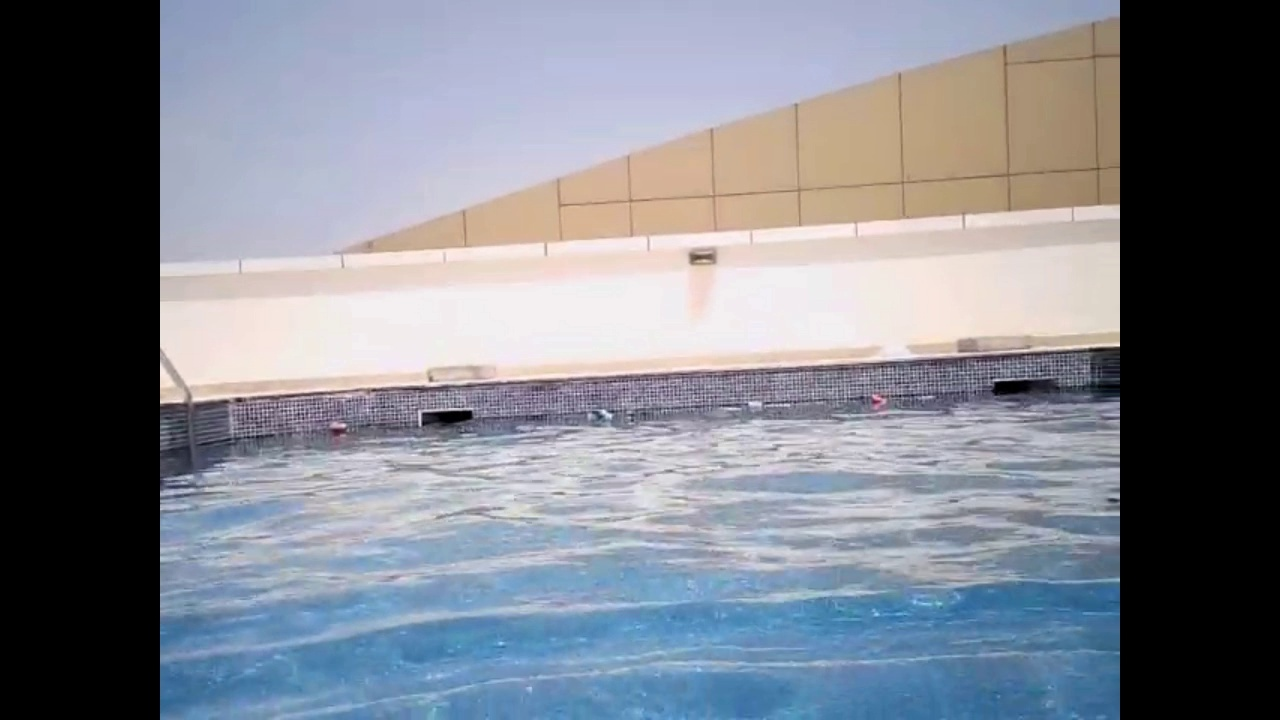debris: (582, 405, 622, 431), (863, 389, 889, 418), (739, 395, 770, 417), (324, 415, 351, 439)
